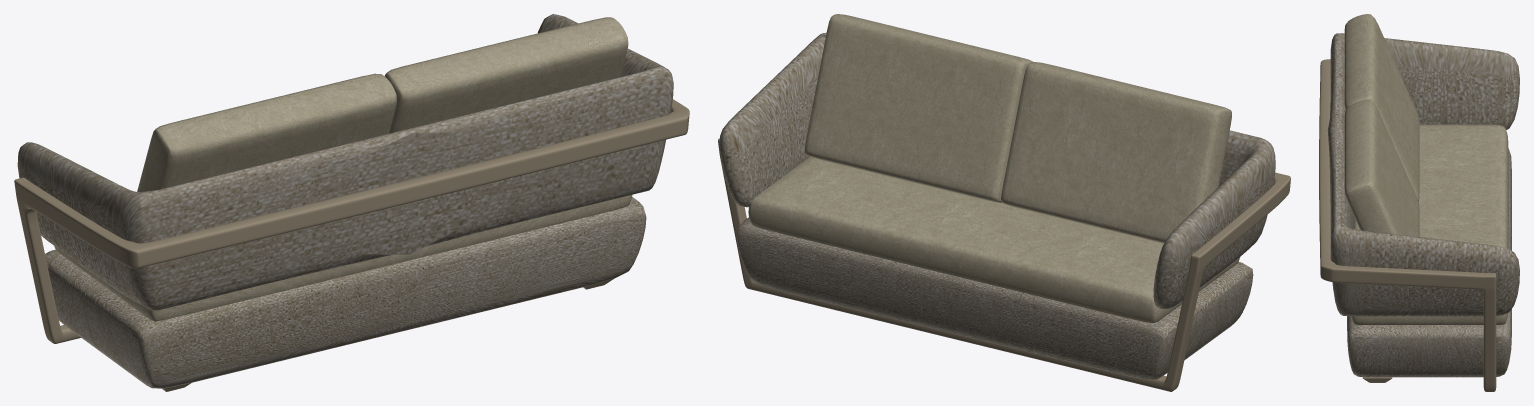
File: Couch-2.fbx
The picture shows the model from 3 angles, left to right: view 1: azimuth 30°, elevation 25°; view 2: azimuth 150°, elevation 25°; view 3: azimuth 270°, elevation 25°; orthographic projection. The views are drawn at different scales.
Visible parts, largest first — view 1: pasted__polySurface23; view 2: pasted__polySurface23; view 3: pasted__polySurface23.
Part boxes in pixels (left/top/right/bottom): pasted__polySurface23: left=14, top=14, right=689, bottom=391; pasted__polySurface23: left=718, top=14, right=1290, bottom=391; pasted__polySurface23: left=1319, top=14, right=1519, bottom=391.
Size of the model in its own units: 21.98 by 9.86 by 8.82.
